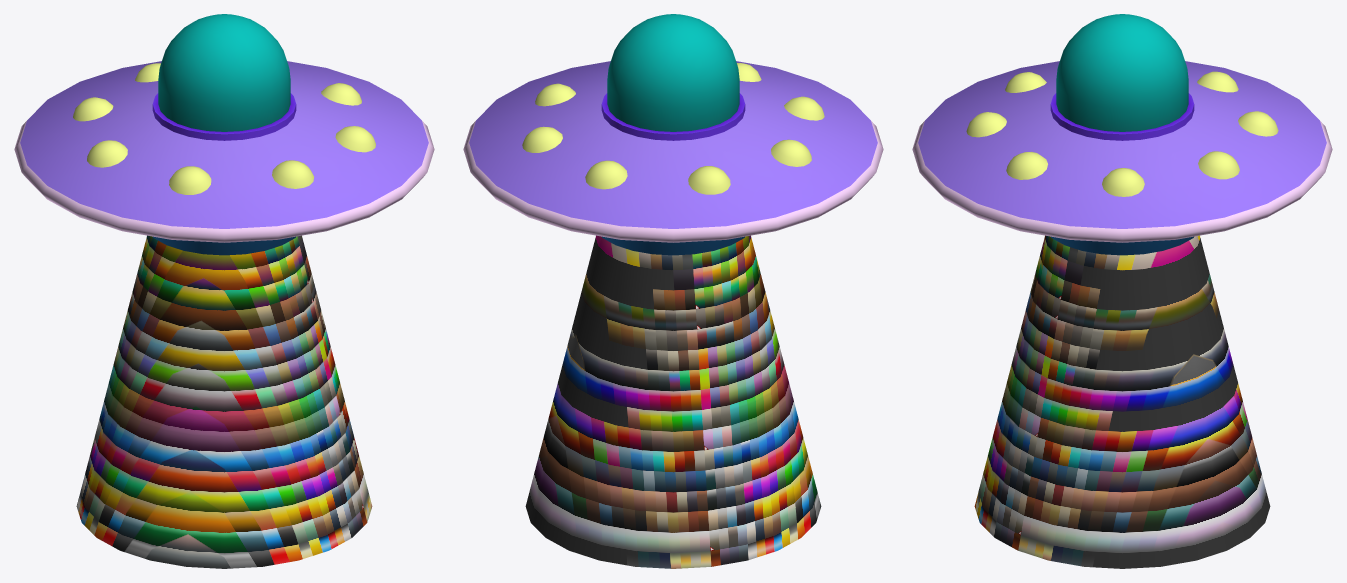
Rendered from UFO.fbx.
3 renders of one model, left to right at view 1: azimuth 30°, elevation 25°; view 2: azimuth 150°, elevation 25°; view 3: azimuth 270°, elevation 25°, orthographic.
Visible parts, largest first — view 1: UFO_Light, UFO; view 2: UFO_Light, UFO; view 3: UFO_Light, UFO.
Boxes of the visible parts, bbox=[...] form: UFO_Light: bbox=[76, 235, 372, 568]; UFO: bbox=[14, 14, 434, 255]; UFO_Light: bbox=[525, 235, 821, 568]; UFO: bbox=[463, 14, 883, 255]; UFO_Light: bbox=[974, 235, 1270, 568]; UFO: bbox=[912, 14, 1332, 255].
Bounding box in the file's own units: 635 × 811 × 635.
